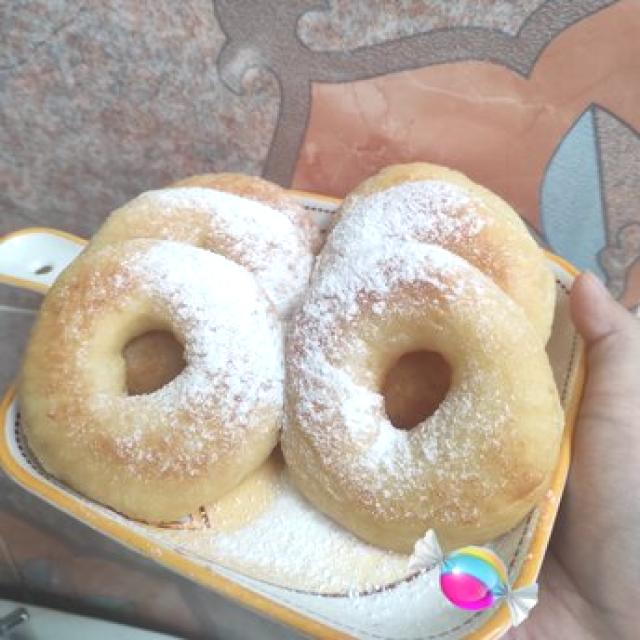donat: (279, 229, 562, 556), (19, 240, 287, 524)
